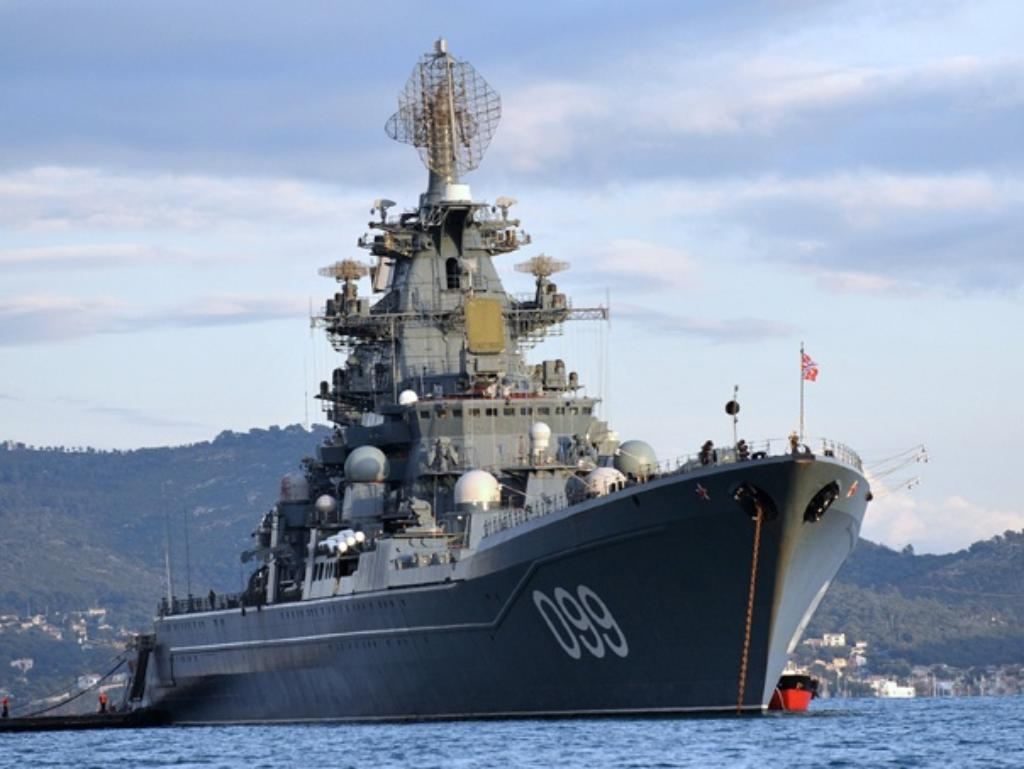Warship: (119, 35, 879, 719)
